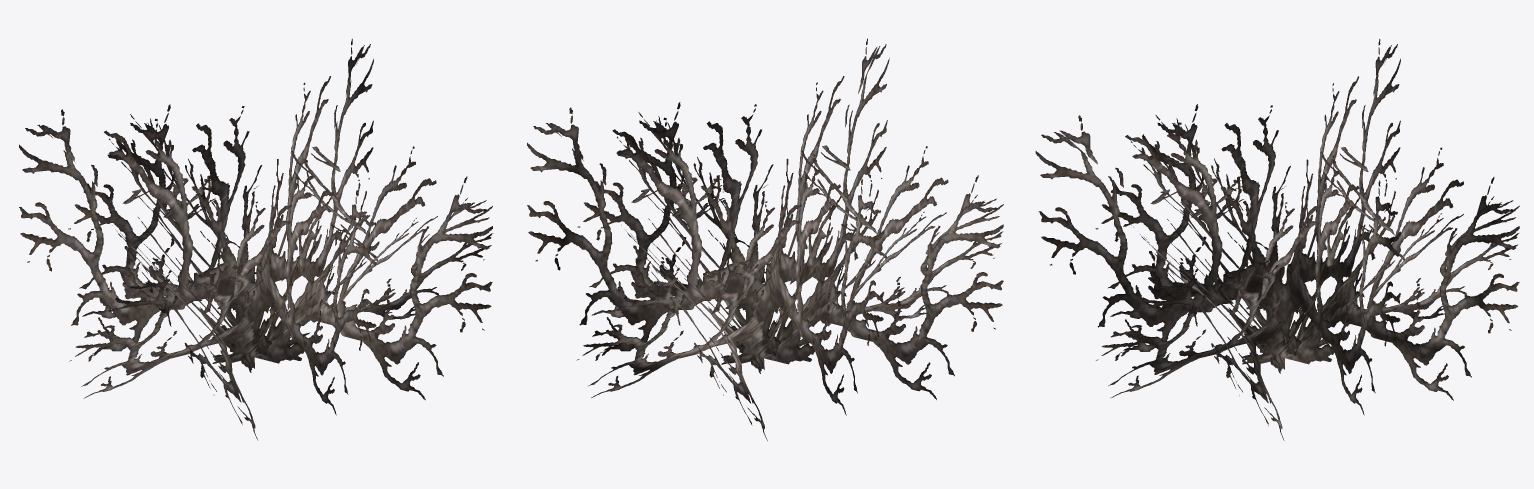
File: bladesedgebush01.obj
3 renders of one model, left to right at view 1: azimuth 30°, elevation 25°; view 2: azimuth 150°, elevation 25°; view 3: azimuth 270°, elevation 25°, orthographic.
Parts seen in each view (by area): view 1: bladesedgebush01; view 2: bladesedgebush01; view 3: bladesedgebush01.
Boxes of the visible parts, bbox=[...] form: bladesedgebush01: bbox=[19, 38, 493, 440]; bladesedgebush01: bbox=[527, 38, 1003, 440]; bladesedgebush01: bbox=[1035, 39, 1519, 440].
Bounding box in the file's own units: 3.24 × 2.03 × 2.85.
1 material, 1 textured.
